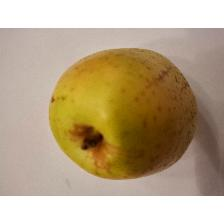Apfel: (45, 41, 202, 183)
